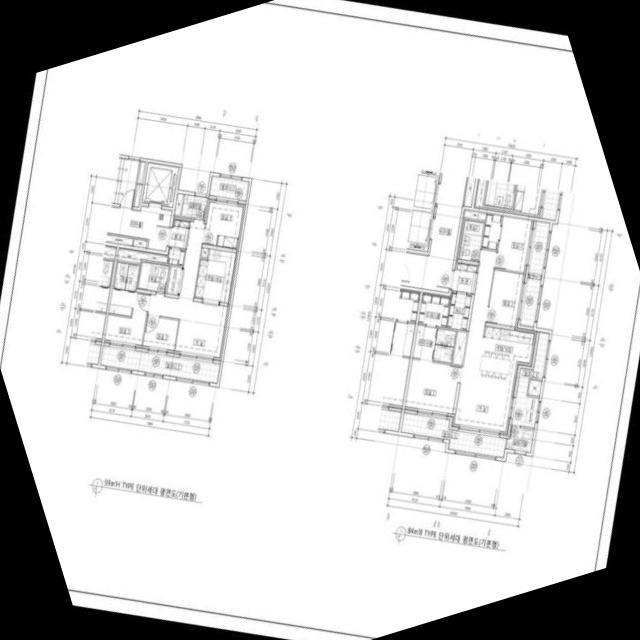background: (0, 0, 640, 640)
space_balconi: (400, 412, 505, 457), (99, 345, 219, 383), (511, 331, 548, 427), (519, 221, 549, 326), (208, 175, 248, 200)
space_bedroom: (403, 359, 459, 416), (103, 292, 148, 347), (494, 215, 533, 272), (486, 269, 524, 326), (202, 198, 244, 249), (141, 315, 177, 352)
space_dressroom: (417, 292, 449, 327), (108, 288, 135, 316), (481, 213, 501, 249)
space_elevator: (141, 162, 178, 207), (405, 207, 433, 251), (412, 169, 439, 210)
space_elevator_hall: (399, 172, 466, 292), (106, 205, 171, 251)
space_front: (450, 262, 477, 293), (168, 216, 189, 248), (166, 248, 184, 265)
space_kitchen: (477, 325, 536, 382), (194, 248, 237, 302)
space_living_room: (451, 249, 514, 434), (147, 219, 228, 360)
space_other: (446, 292, 470, 330), (116, 247, 166, 263), (133, 161, 145, 206), (451, 330, 466, 365), (166, 265, 181, 294), (463, 176, 475, 206), (105, 234, 132, 245), (462, 209, 485, 220), (527, 379, 541, 396), (173, 193, 183, 215), (132, 238, 146, 248), (200, 247, 208, 257)
space_outdoor_room: (505, 426, 533, 452), (181, 194, 206, 219)
space_staircase: (111, 157, 138, 206)
space_toilet: (412, 324, 455, 363), (458, 219, 483, 261), (136, 261, 169, 292), (124, 263, 139, 291), (113, 261, 127, 289)
